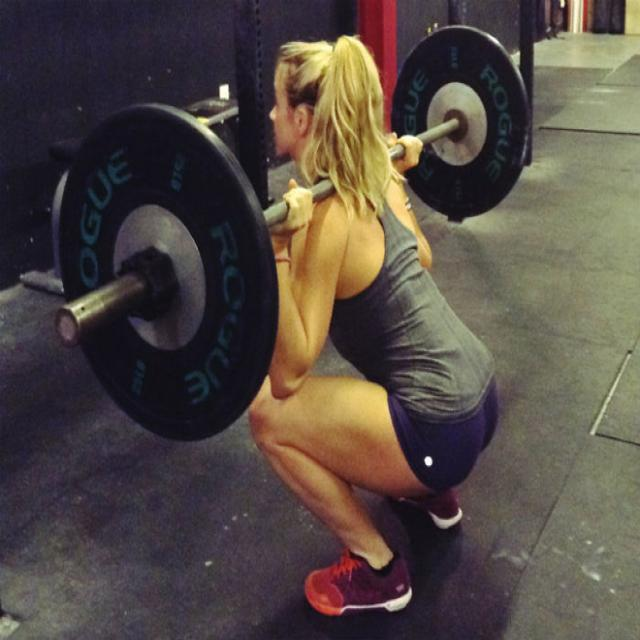squat: (38, 23, 550, 627)
